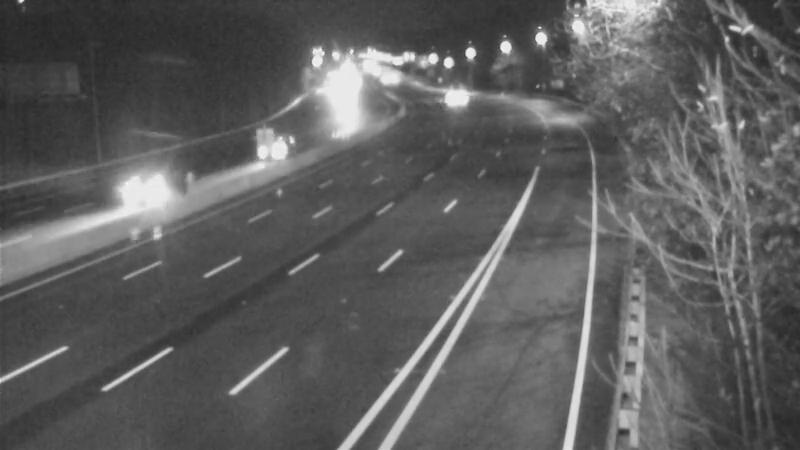vehicle: (113, 150, 193, 230), (426, 74, 476, 124), (252, 123, 302, 173)
